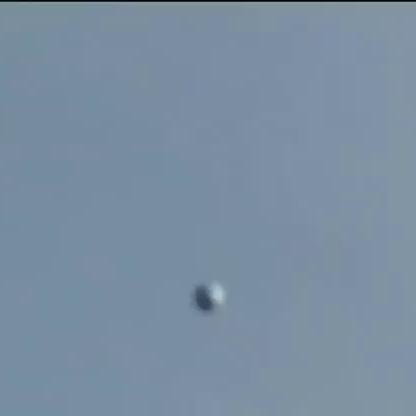golfball: (193, 275, 223, 311)
